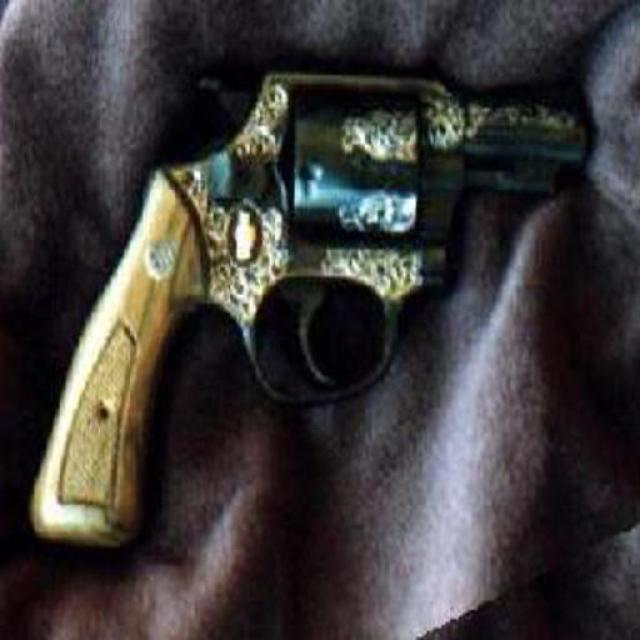pistol: (23, 65, 589, 544)
